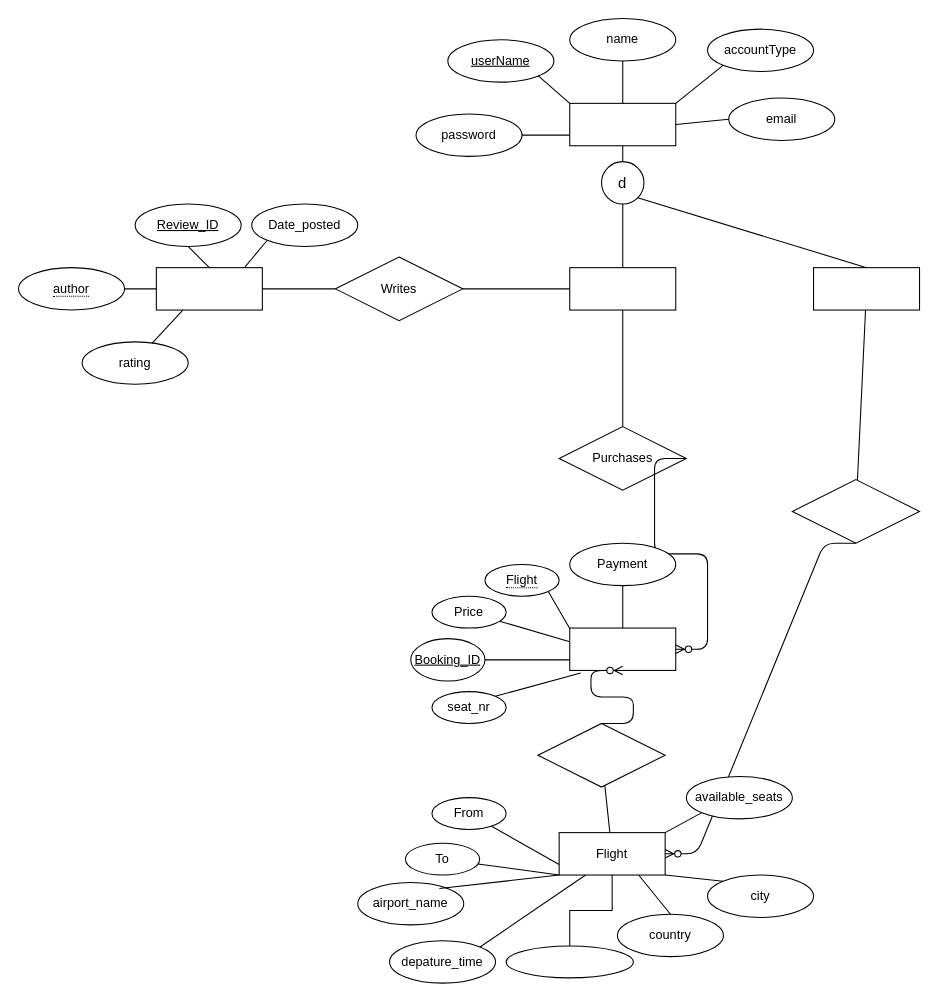
The diagram is 938 pixels wide and 1002 high, and some of its shapes have lost their labels. Each missing label, with the centre of its shape:
Account: point 622,124
Admin: point 866,288
Booking: point 622,648
Flight number: point 569,961
For a: point 601,754
manages: point 855,511
Review: point 208,288
User: point 622,288
